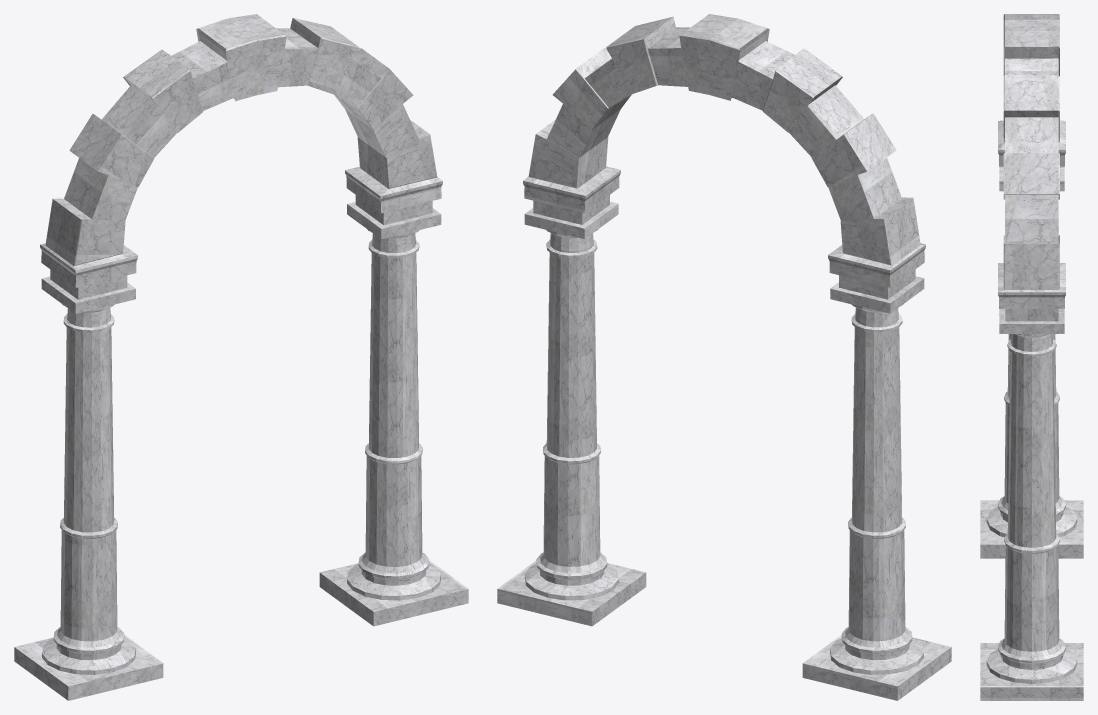
File: archway.fbx
3 renders of one model, left to right at view 1: azimuth 30°, elevation 25°; view 2: azimuth 150°, elevation 25°; view 3: azimuth 270°, elevation 25°, orthographic. The views are drawn at different scales.
Parts seen in each view (by area): view 1: Archway; view 2: Archway; view 3: Archway.
Boxes of the visible parts, x1,y1,x2,y2 form: Archway: (14, 14, 468, 700); Archway: (497, 14, 951, 700); Archway: (980, 14, 1083, 700).
Size of the model in its own units: 1409 by 2031 by 329.
